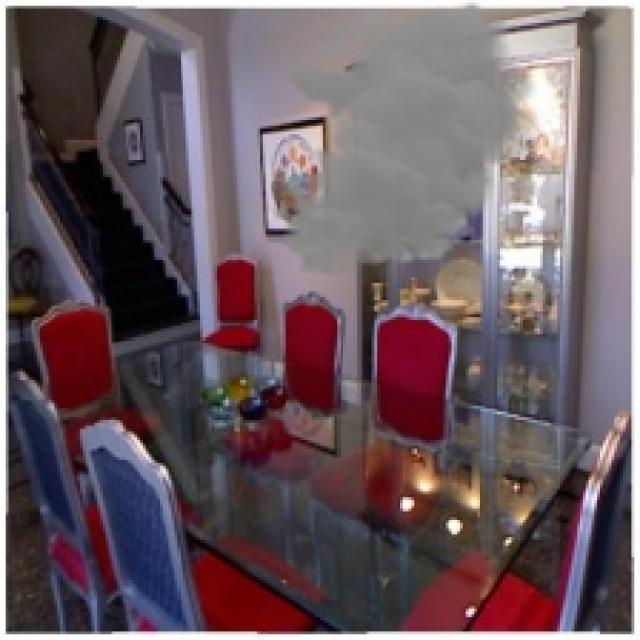smoke: (272, 0, 548, 277)
